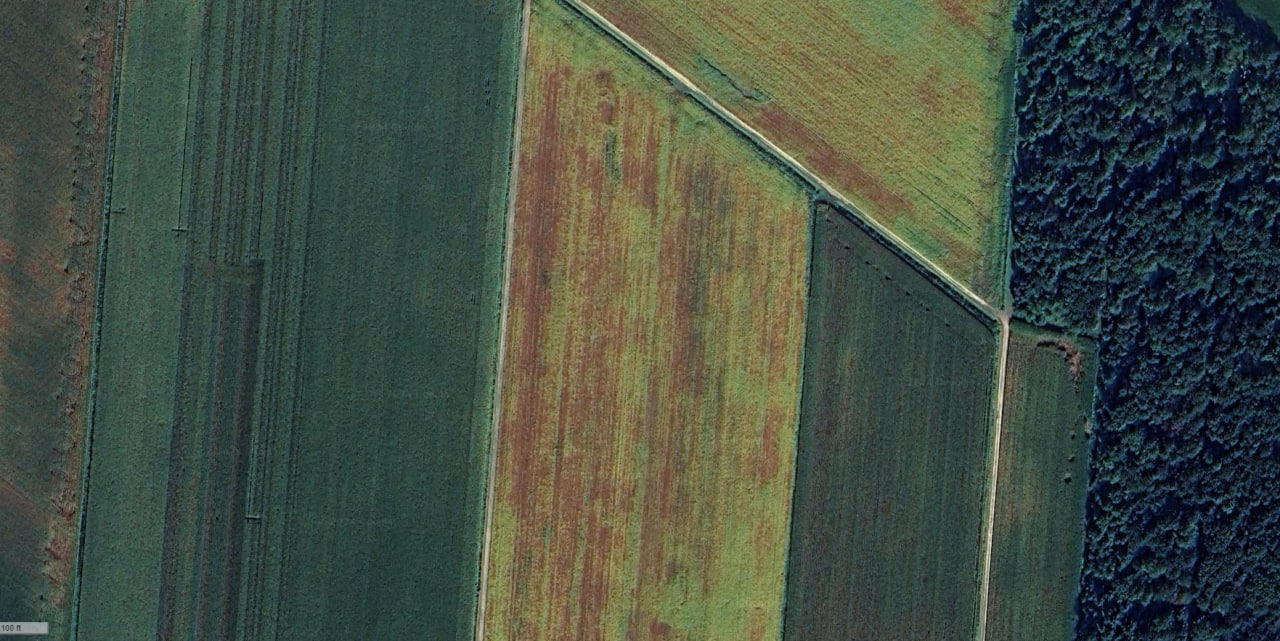Sown field: (78, 0, 521, 641), (784, 203, 995, 641), (986, 323, 1096, 641), (16, 638, 32, 641), (6, 638, 10, 641)
field: (483, 0, 811, 641), (584, 0, 1015, 305)
